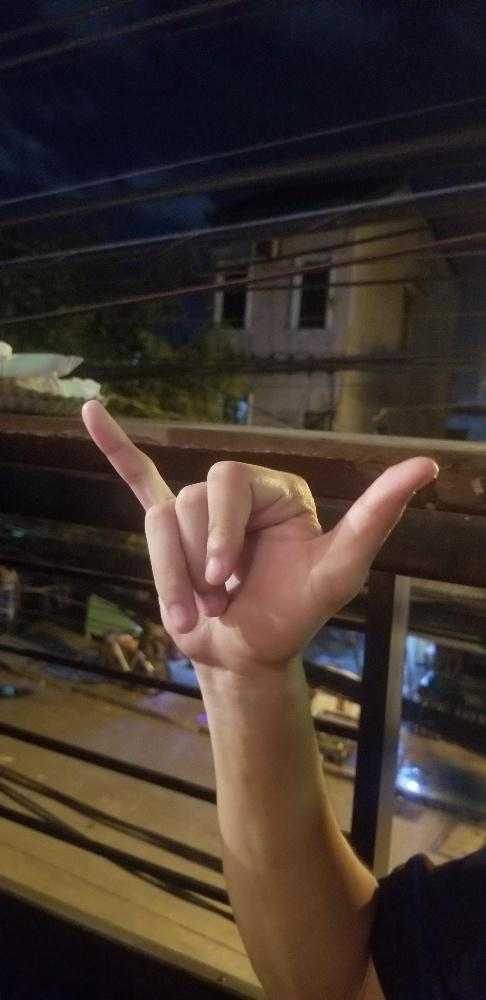y: (76, 394, 439, 671)
